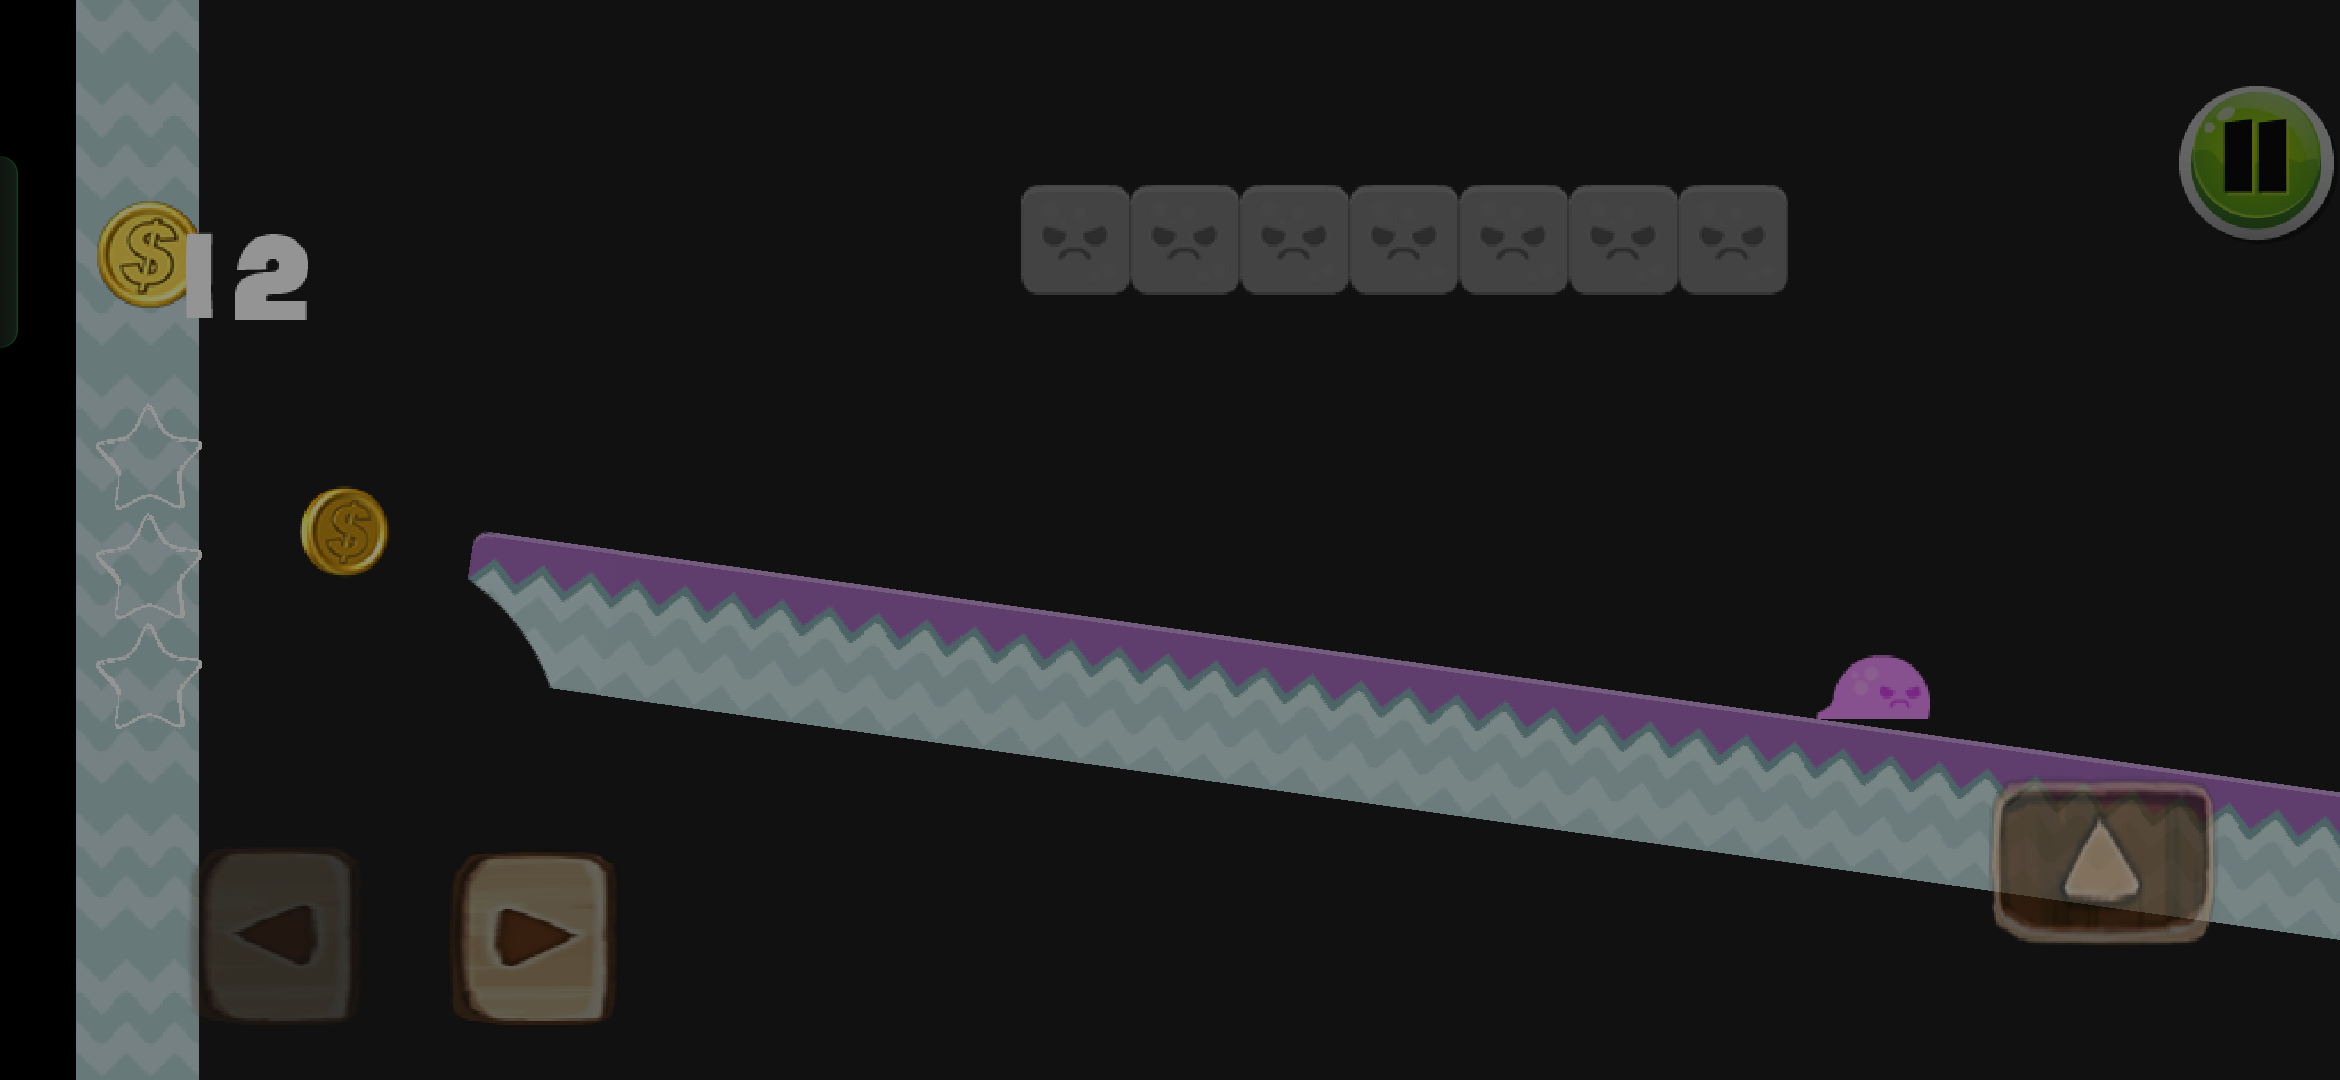Enemy: (1815, 653, 1930, 720)
